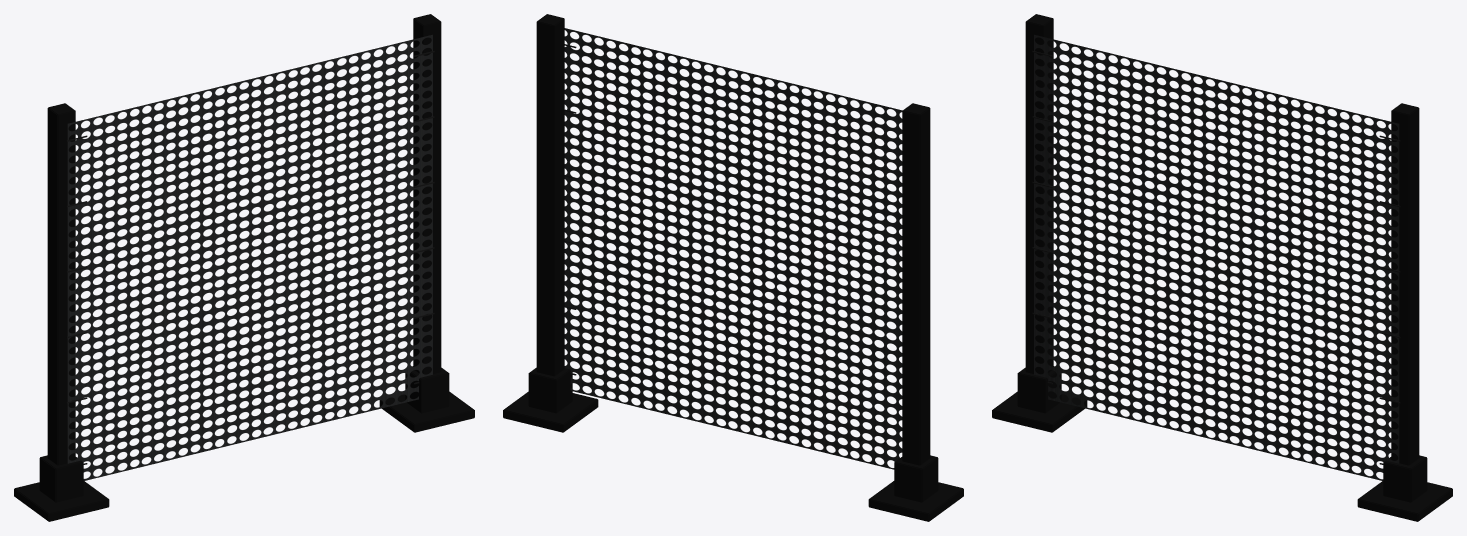
File: obj_mesh_wall_black.glb
The picture shows the model from 3 angles, left to right: view 1: azimuth 30°, elevation 25°; view 2: azimuth 150°, elevation 25°; view 3: azimuth 330°, elevation 25°; orthographic projection.
Visible parts, largest first — view 1: mesh, mesh_wall_black_body; view 2: mesh, mesh_wall_black_body; view 3: mesh, mesh_wall_black_body.
Part boxes in pixels (box(x1,y1,x2,y2)): mesh: box(67, 34, 432, 480); mesh_wall_black_body: box(14, 14, 474, 521); mesh: box(564, 28, 902, 469); mesh_wall_black_body: box(503, 14, 963, 521); mesh: box(1034, 34, 1399, 480); mesh_wall_black_body: box(992, 14, 1452, 521).
Size of the model in its own units: 2.1 by 1.85 by 0.3.
3 materials, 2 textured.
